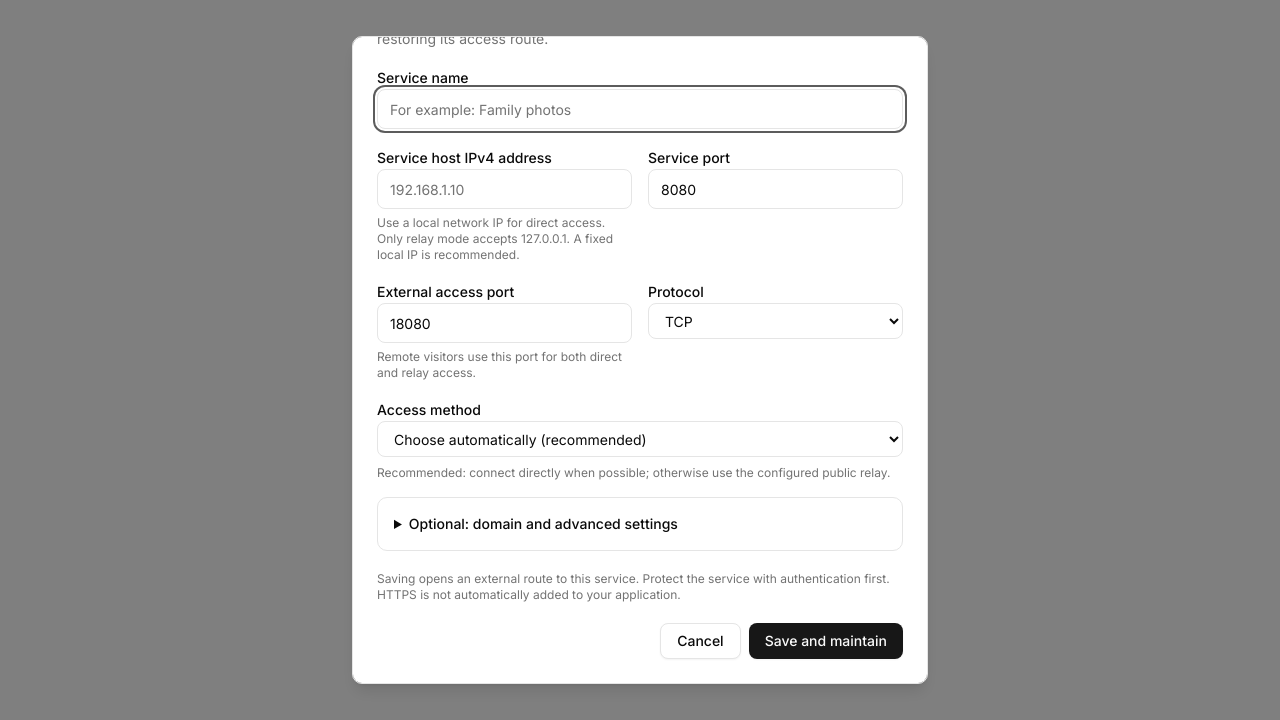
Test: public service form › keeps invalid submissions in the dialog with a helpful error
This screenshot has width=1280, height=720.
(page scrolled)
Click the button "Save and maintain" at x=826, y=641, box [749,623,903,659]
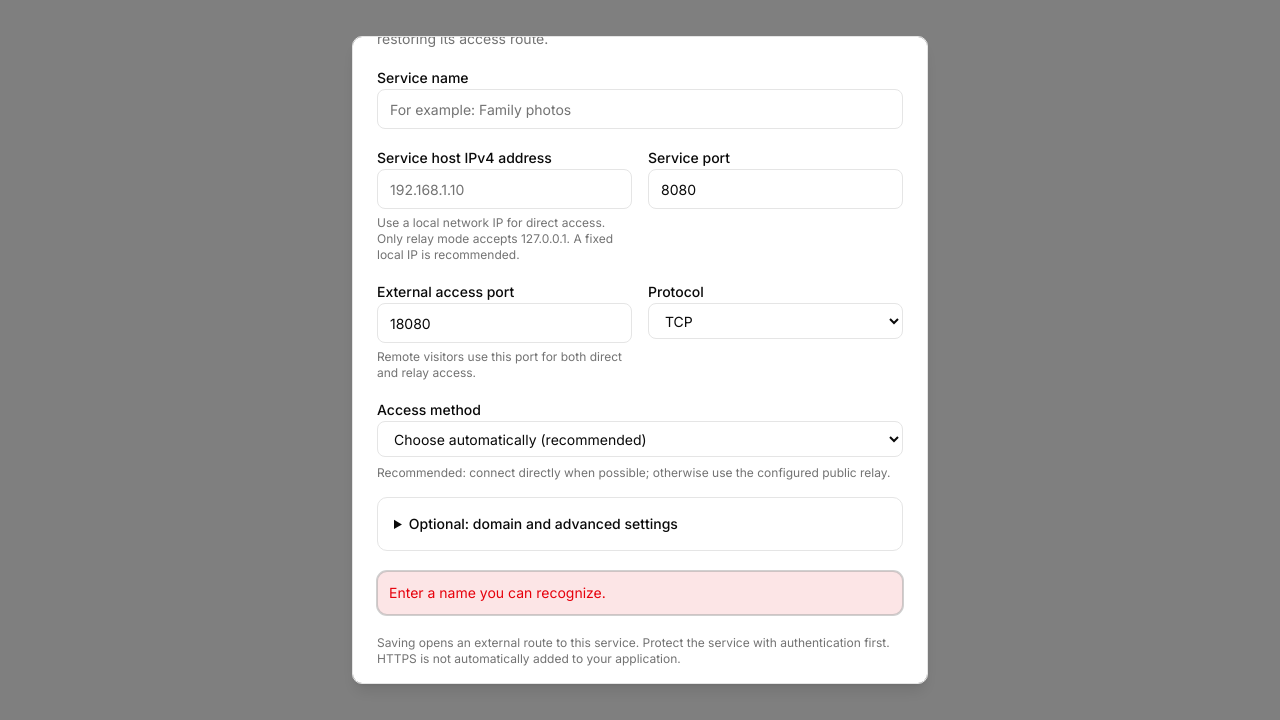
Expected: the message reads "Enter a name you can recognize.", [389,584,606,601]
